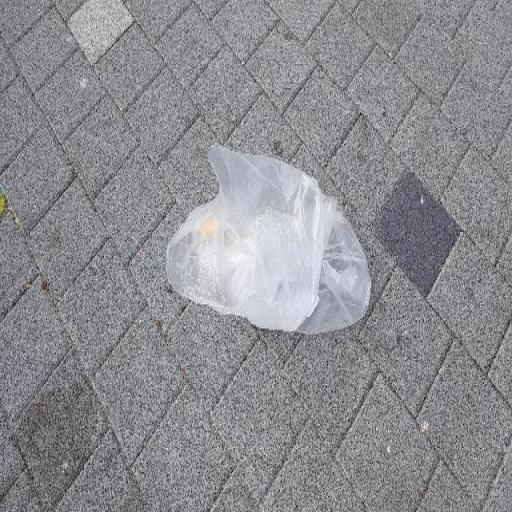plastic-bag: (166, 142, 373, 337)
